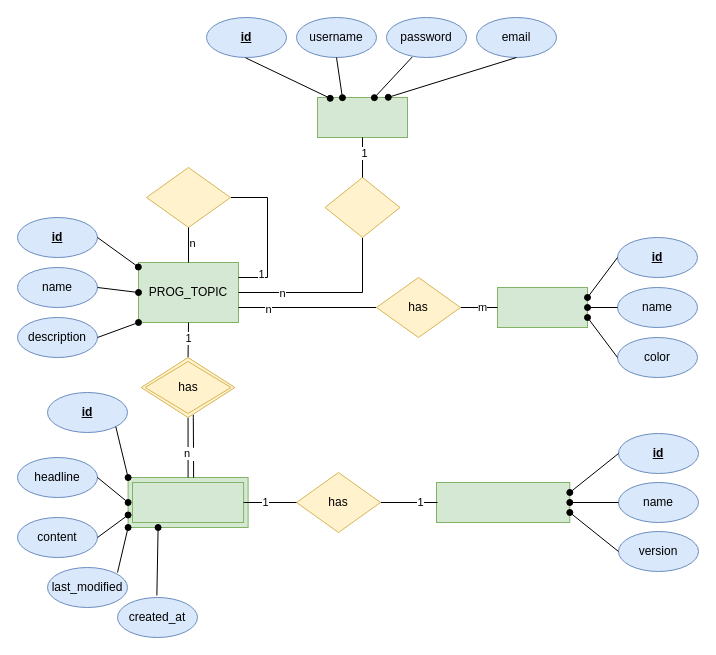
Image size: 716x655. Some labels were removed from this diagram. Here are the shapes that lost their labels. From the top down, the centre of each, then its label:
At [362,117]: "USER".
At [188,197]: "has nested".
At [362,207]: "creates".
At [542,307]: "TAG".
At [188,502]: "PROG_SNIPPET".
At [503,502]: "PROG_LANGUAGE".
